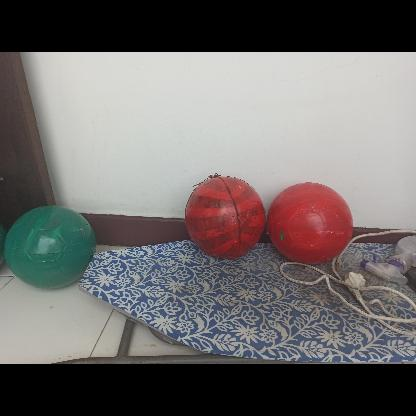red_ball: (268, 180, 352, 264), (184, 176, 264, 257)
